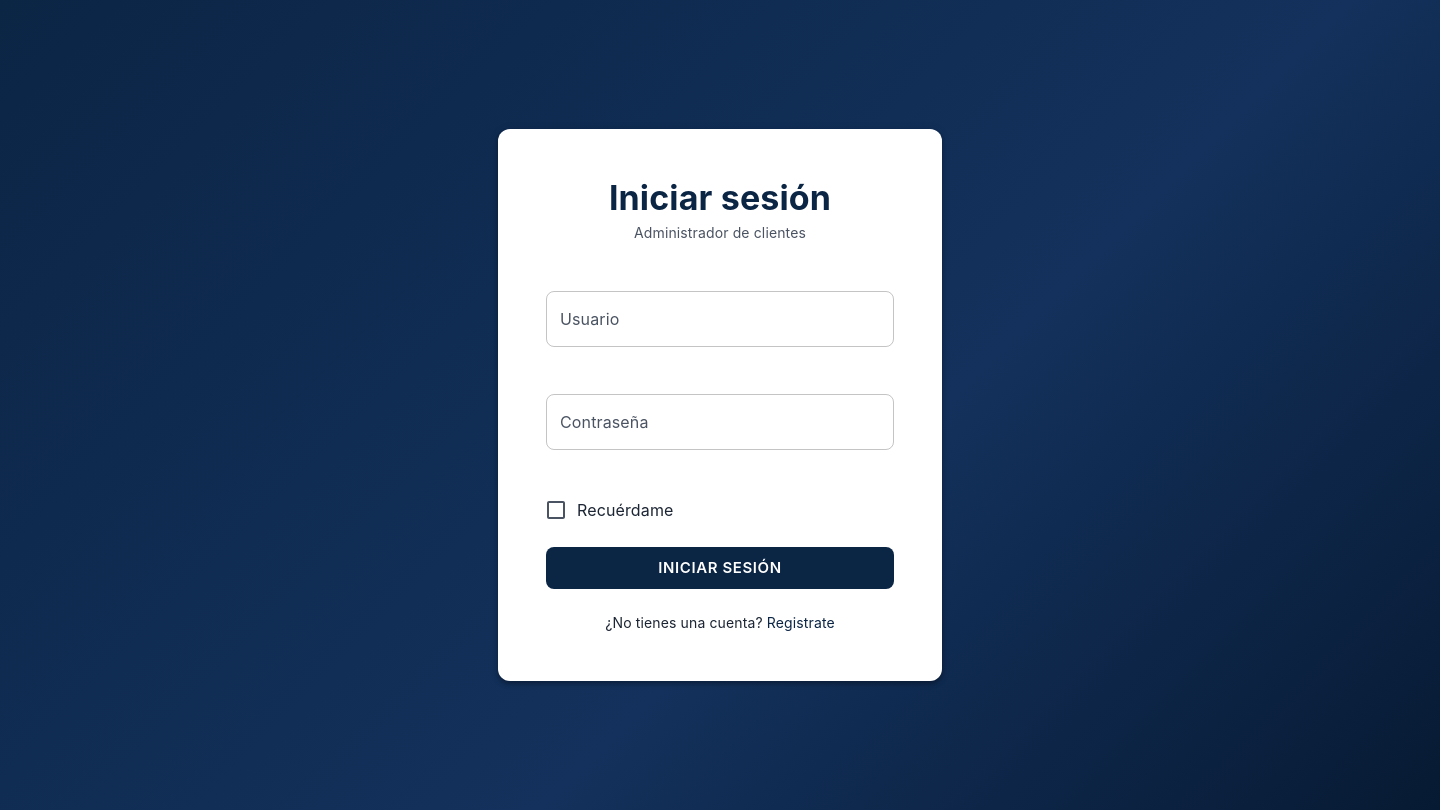
Test: LoginPage › surfaces a domain-specific error when login fails with invalid credentials
In the field with test id "login-username": (720, 319) [546,291,894,347], type "arivel"
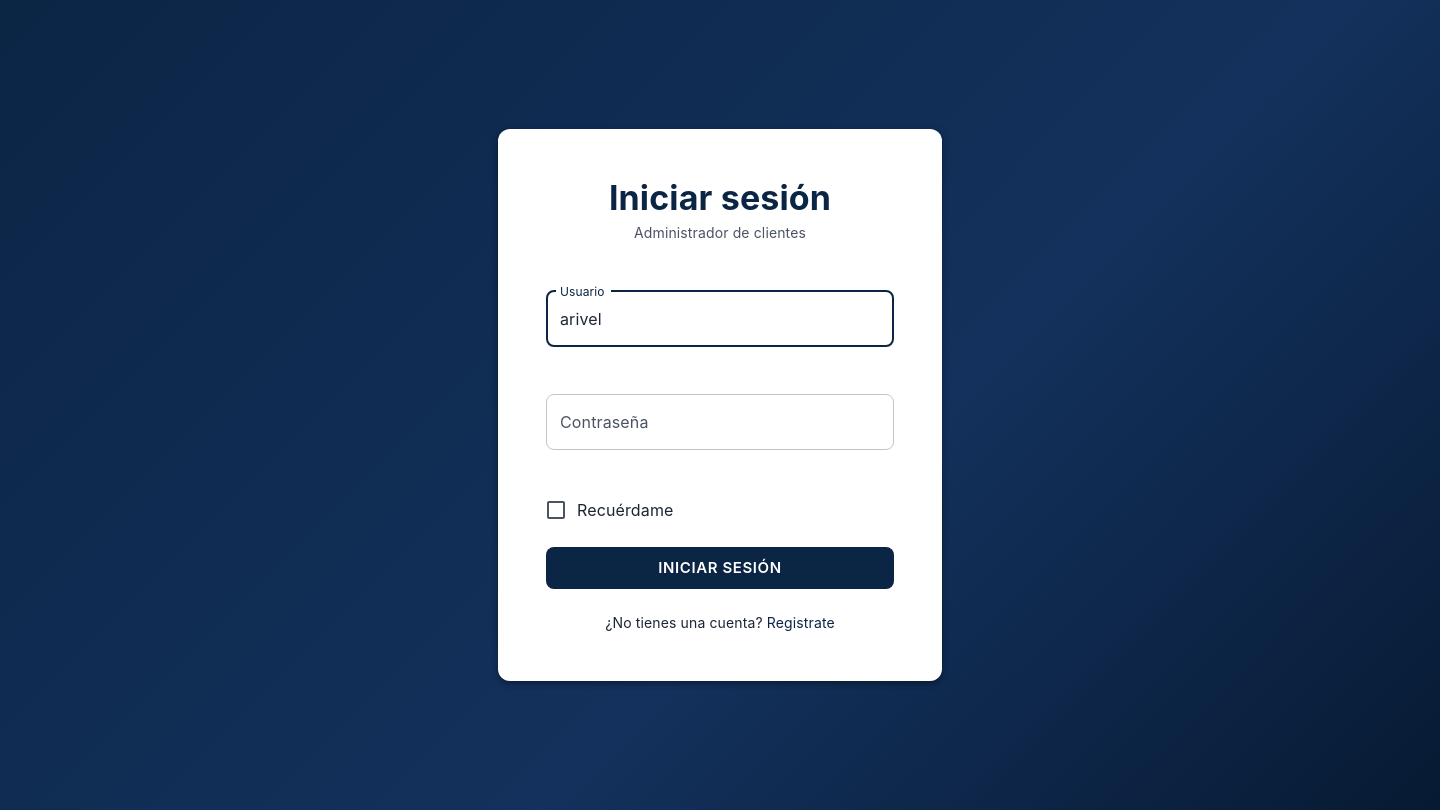
In the password field with test id "login-password": (720, 422) [546,394,894,450], type "wrong"
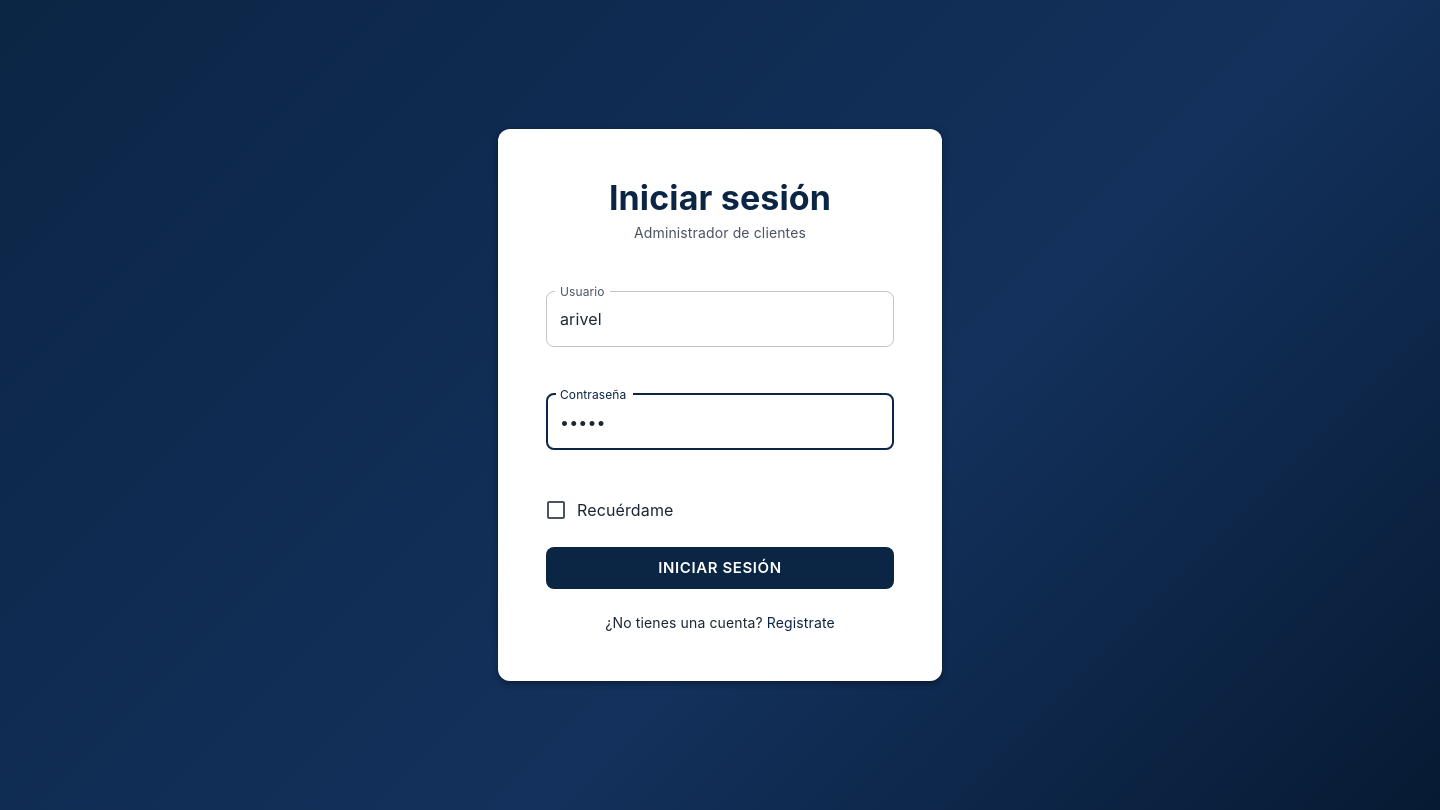
Click the button with test id "login-submit": (720, 568) [546,547,894,589]
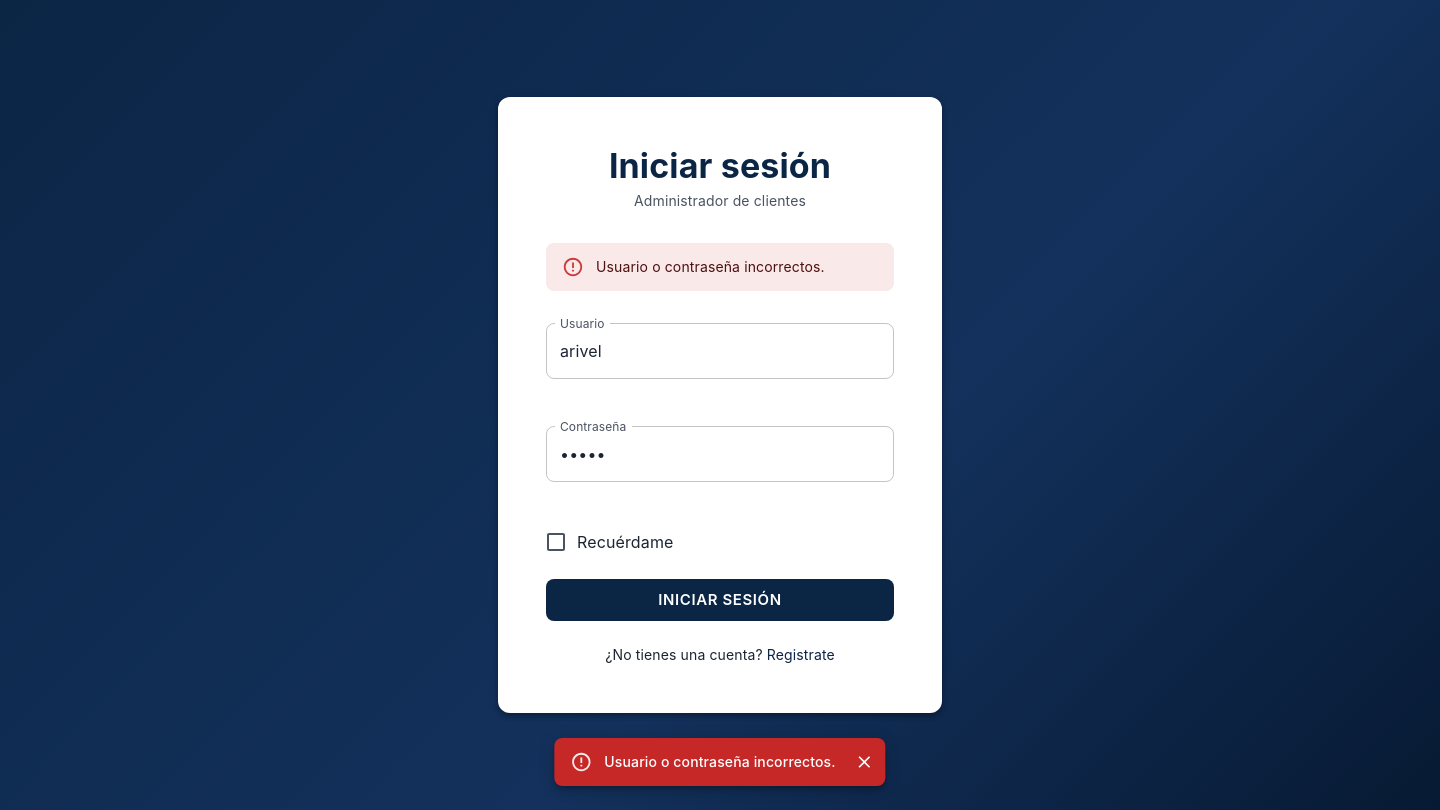
Result: the message with test id "login-error" shows "Usuario o contraseña incorrectos" at [596,258,825,275]
